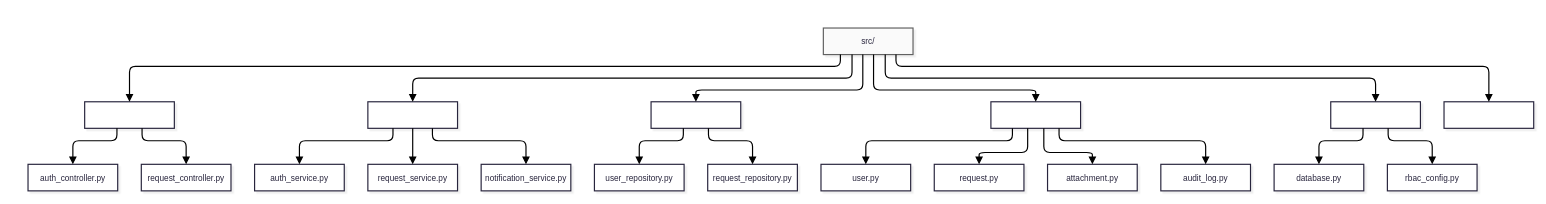
Some shapes in this 1546 by 204 pixel diagram are drawn without their labels. The shapes that lost their labels are listed below. From the top down, each one's centre as x and y in pixels, then its label:
At point (130, 116): "controllers/".
At point (413, 116): "services/".
At point (696, 116): "repositories/".
At point (1036, 116): "models/".
At point (1376, 116): "config/".
At point (1489, 116): "utils/".
